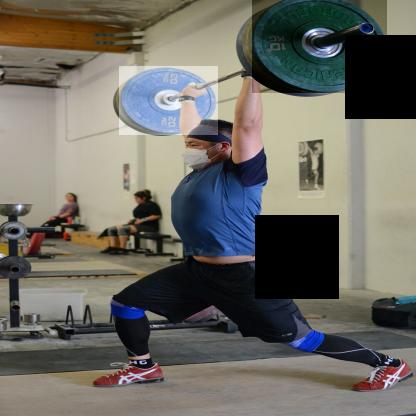barbell: (253, 1, 388, 94), (120, 67, 219, 136)
